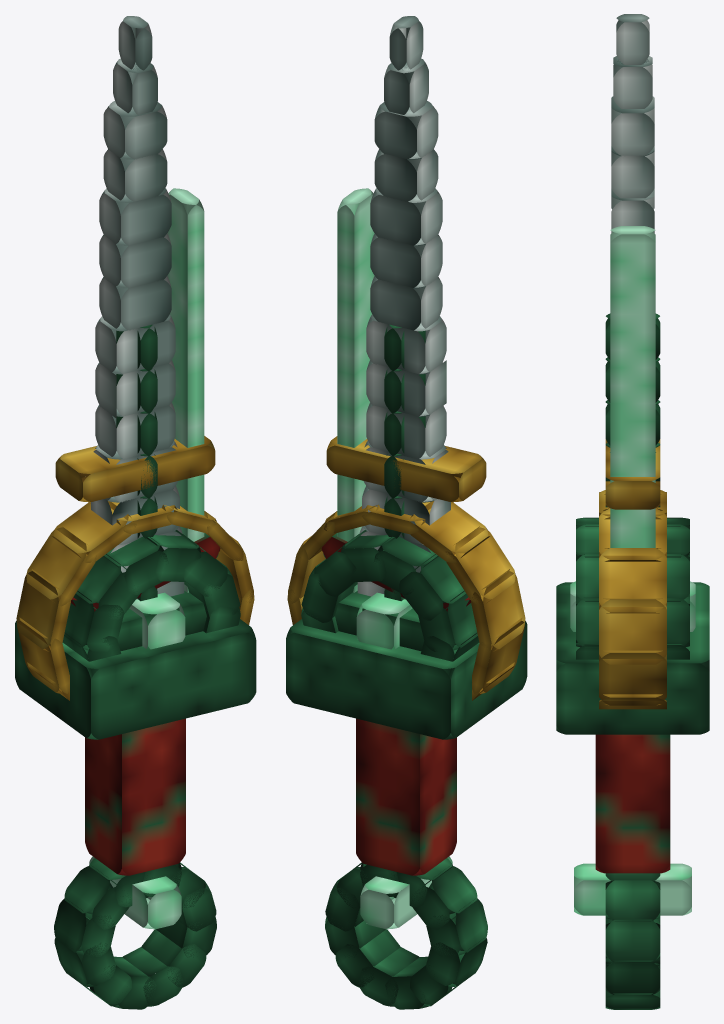
File: jade_fang.obj
3 views of the same model, side by side, from view 1: azimuth 30°, elevation 25°; view 2: azimuth 150°, elevation 25°; view 3: azimuth 270°, elevation 25° (orthographic).
Visible parts, largest first — view 1: lit, fire; view 2: lit, fire; view 3: lit, fire.
Boxes of the visible parts, <box> form: lit: <box>15,16,256,1009</box>; fire: <box>89,188,204,929</box>; lit: <box>286,16,527,1009</box>; fire: <box>337,188,452,929</box>; lit: <box>556,14,709,1009</box>; fire: <box>570,226,695,915</box>.
Size of the model in its own units: 0.3856 by 1.73 by 0.2444.
